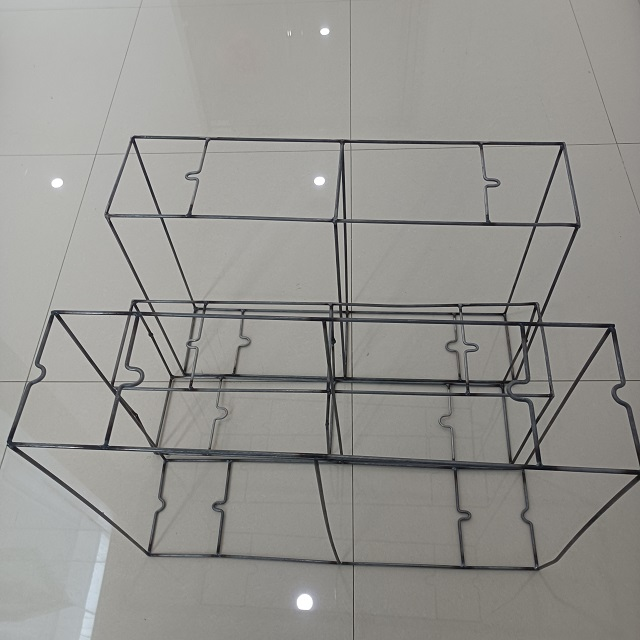curvedhole: (174, 153, 214, 195), (605, 368, 634, 424), (115, 349, 145, 402), (475, 164, 516, 202), (504, 368, 538, 412), (451, 498, 485, 541), (19, 350, 49, 396), (449, 327, 479, 368), (230, 321, 260, 360), (142, 485, 171, 523), (207, 396, 234, 432), (185, 325, 208, 367), (433, 404, 461, 438), (207, 488, 234, 522), (512, 499, 536, 532), (441, 329, 462, 362)
